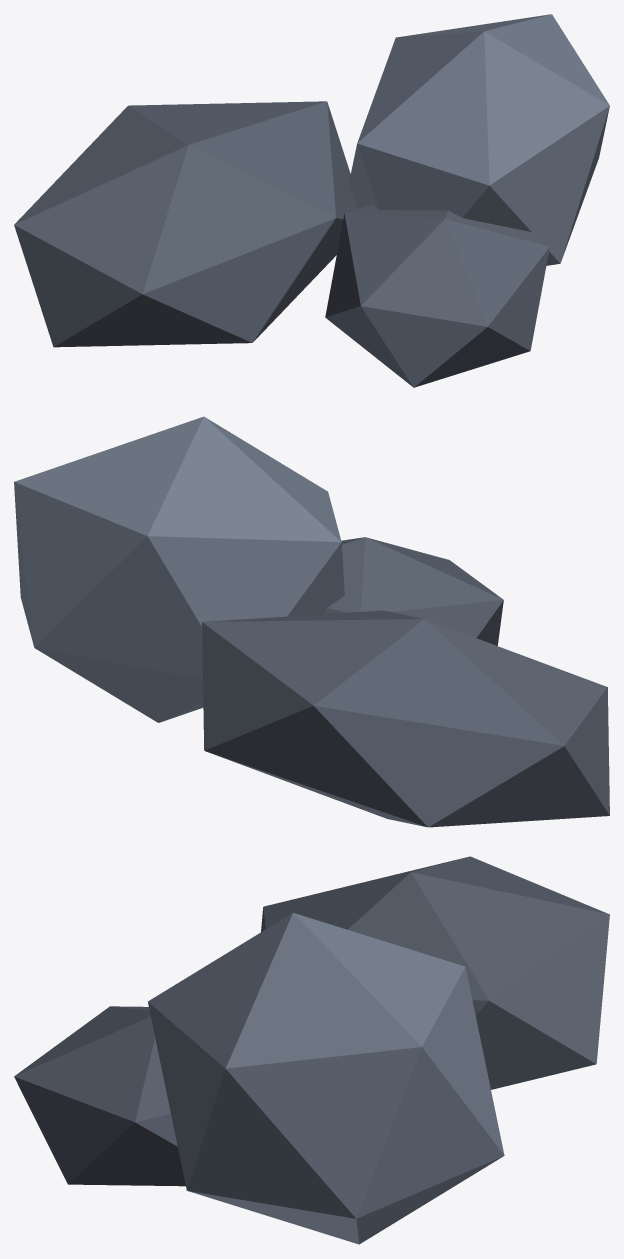
File: EXTW_EastCluster_04.glb
3 views of the same model, one above another, from view 1: azimuth 30°, elevation 25°; view 2: azimuth 150°, elevation 25°; view 3: azimuth 270°, elevation 25° (orthographic). The views are drawn at different scales.
Parts seen in each view (by area): view 1: EXTW_EastCluster_04; view 2: EXTW_EastCluster_04; view 3: EXTW_EastCluster_04.
Boxes of the visible parts, bbox=[...] form: EXTW_EastCluster_04: bbox=[14, 14, 609, 387]; EXTW_EastCluster_04: bbox=[14, 416, 609, 827]; EXTW_EastCluster_04: bbox=[14, 856, 609, 1244].
Bounding box in the file's own units: 2.05 × 0.9525 × 1.59.
